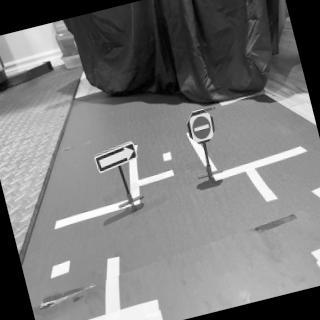sign_noentry: (189, 113, 217, 144)
sign_oneway_right: (92, 141, 143, 177)
